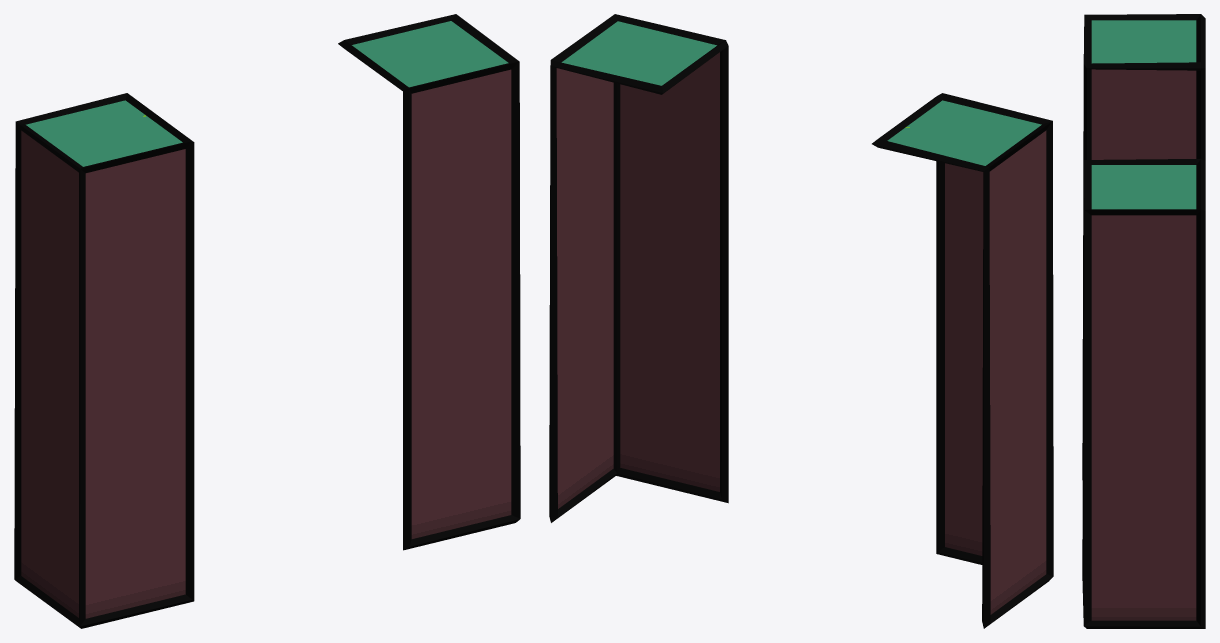
File: Pit_Corner_Down.glb
3 views of the same model, side by side, from view 1: azimuth 30°, elevation 25°; view 2: azimuth 150°, elevation 25°; view 3: azimuth 270°, elevation 25° (orthographic). The views are drawn at different scales.
Visible parts, largest first — view 1: Water_1_Pit_Corner_Down; view 2: Water_1_Pit_Corner_Down; view 3: Water_1_Pit_Corner_Down.
Boxes of the visible parts, x1,y1,x2,y2 form: Water_1_Pit_Corner_Down: (14, 14, 520, 628); Water_1_Pit_Corner_Down: (549, 14, 1053, 628); Water_1_Pit_Corner_Down: (1082, 14, 1205, 628).
Size of the model in its own units: 1.02 by 1.02 by 0.27.
Materials: 4 (3 with a texture image).
